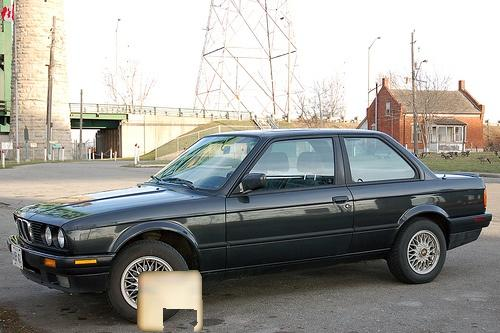tampered: (138, 271, 203, 332)
